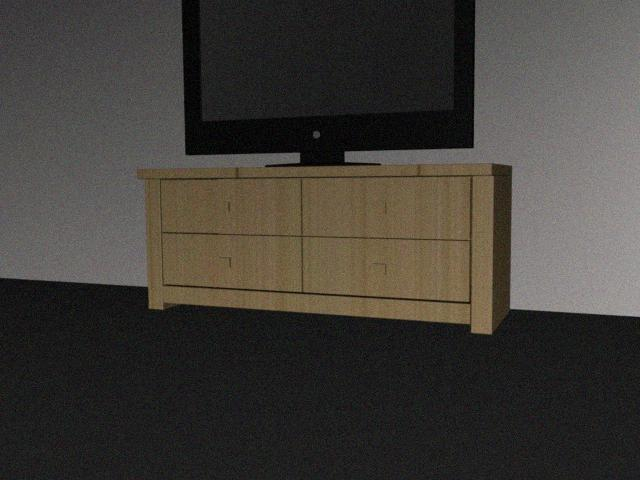cabinet_door: (301, 177, 471, 238), (302, 238, 470, 298), (161, 179, 301, 234), (162, 234, 301, 289)
handle: (366, 259, 391, 279), (213, 251, 233, 272), (211, 198, 234, 216), (368, 197, 389, 214)
